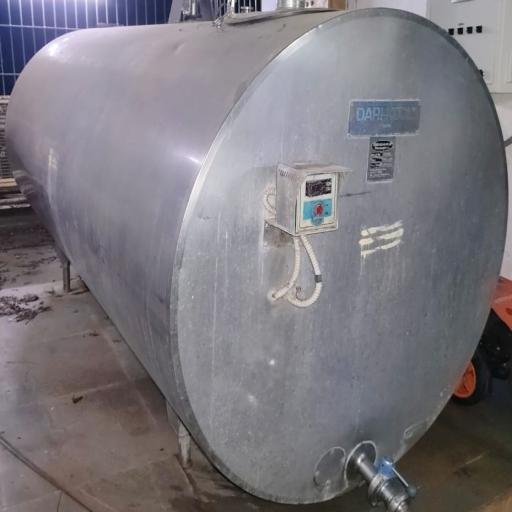silo: (4, 6, 511, 510)
